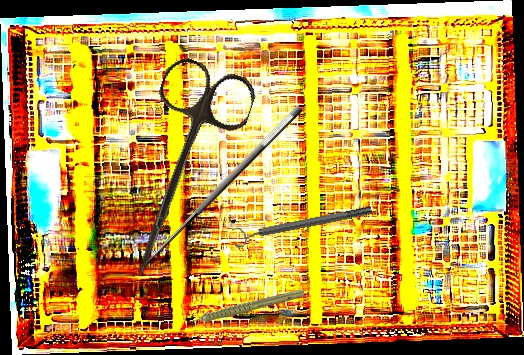Fixation Ring: (231, 199, 374, 250)
Handpiece: (183, 288, 304, 324)
Hook Surgical: (133, 101, 317, 286)
Iris Scissors: (100, 52, 261, 291)
